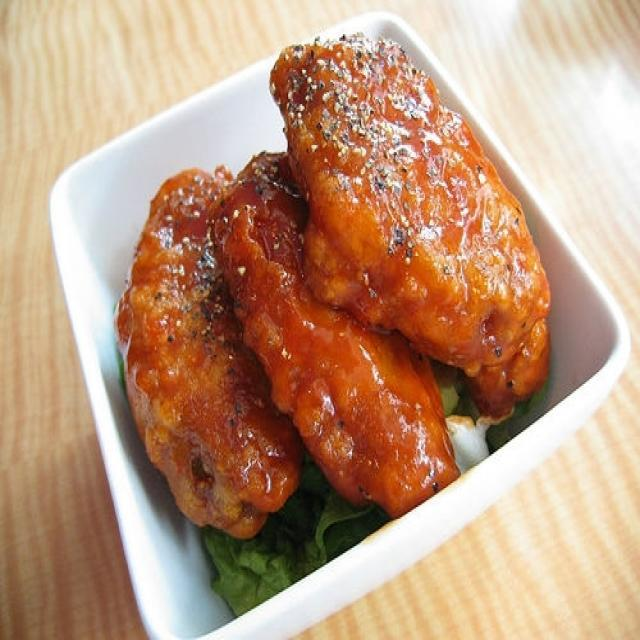Deep fried chicken wing: (110, 36, 554, 526)
